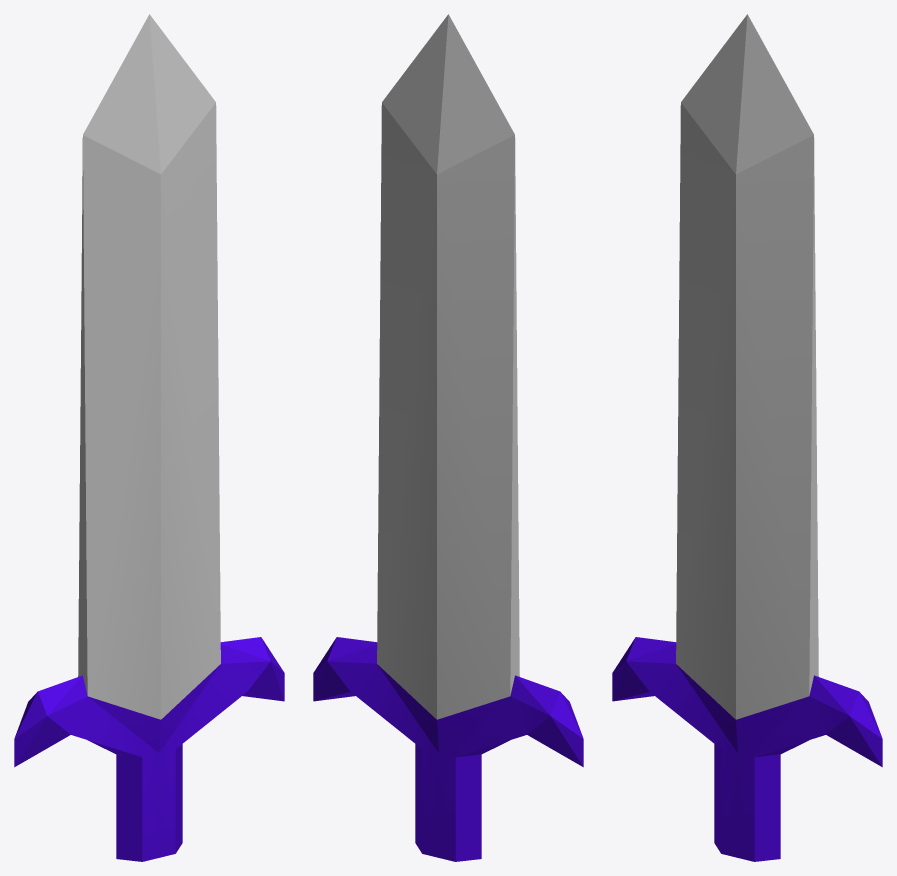
Rendered from sword.gltf.
3 renders of one model, left to right at view 1: azimuth 30°, elevation 25°; view 2: azimuth 150°, elevation 25°; view 3: azimuth 330°, elevation 25°, orthographic.
Visible parts, largest first — view 1: Cube; view 2: Cube; view 3: Cube.
Part boxes in pixels (bbox=[...]): Cube: bbox=[14, 14, 284, 861]; Cube: bbox=[313, 14, 583, 861]; Cube: bbox=[612, 14, 882, 861].
Bounding box in the file's own units: 0.8121 × 2.4 × 0.12.
